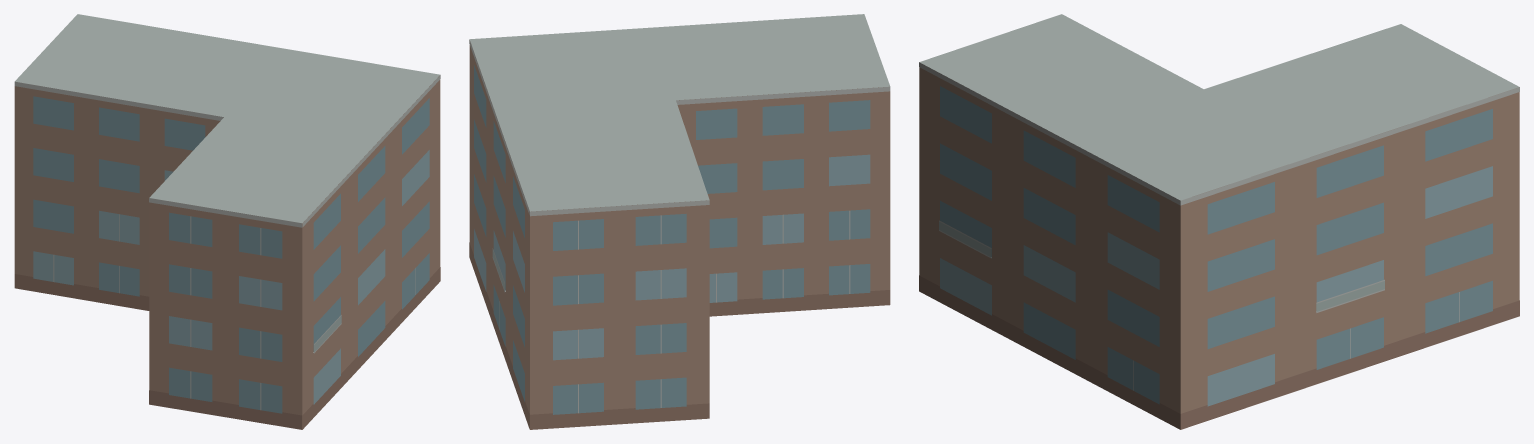
The model's file is survey-upis-32630541.glb.
3 renders of one model, left to right at view 1: azimuth 30°, elevation 25°; view 2: azimuth 150°, elevation 25°; view 3: azimuth 270°, elevation 25°, orthographic. The views are drawn at different scales.
Parts seen in each view (by area): view 1: survey-upis-32630541.tmp; view 2: survey-upis-32630541.tmp; view 3: survey-upis-32630541.tmp.
Boxes of the visible parts, <box> form: survey-upis-32630541.tmp: <box>14,14,440,429</box>; survey-upis-32630541.tmp: <box>469,14,890,429</box>; survey-upis-32630541.tmp: <box>919,14,1519,429</box>.
Bounding box in the file's own units: 19.77 × 11.32 × 26.88.
